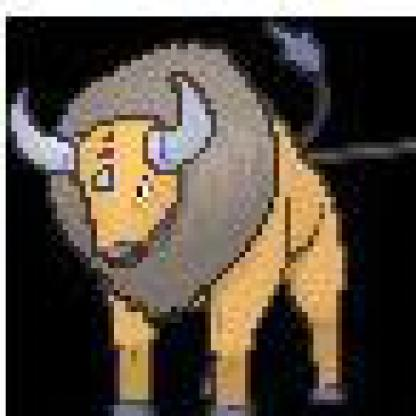Tauros: (1, 1, 412, 412)
